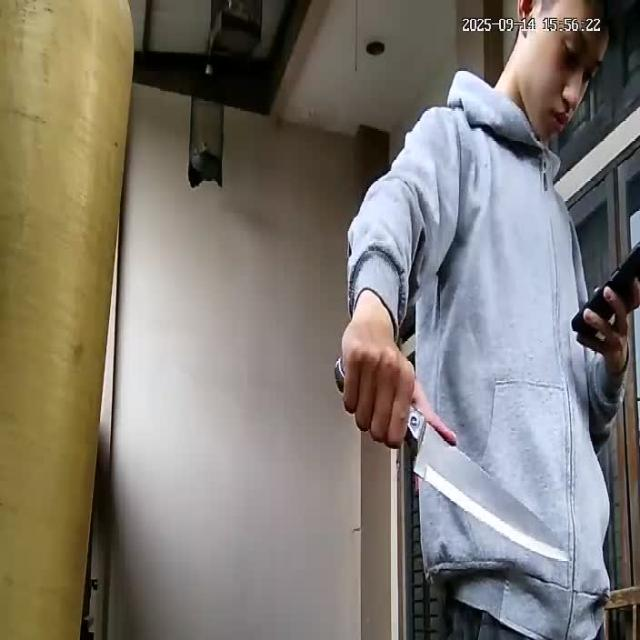senjata_tajam: (410, 406, 572, 567)
